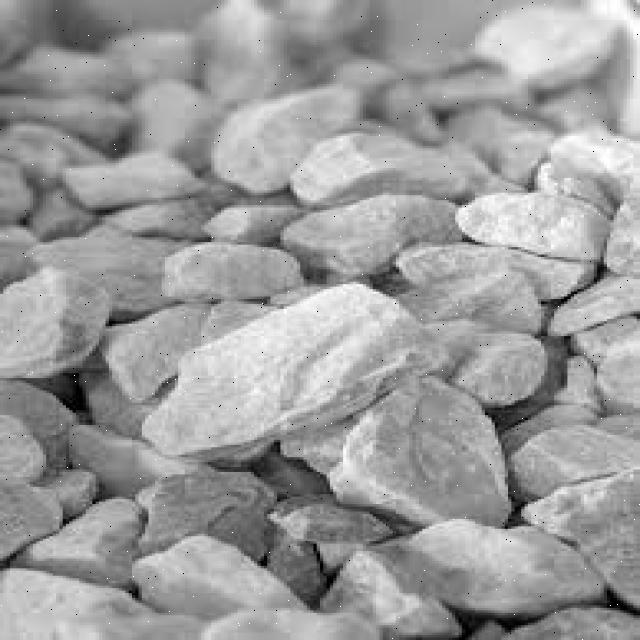Metamorphic: (4, 35, 634, 632)
